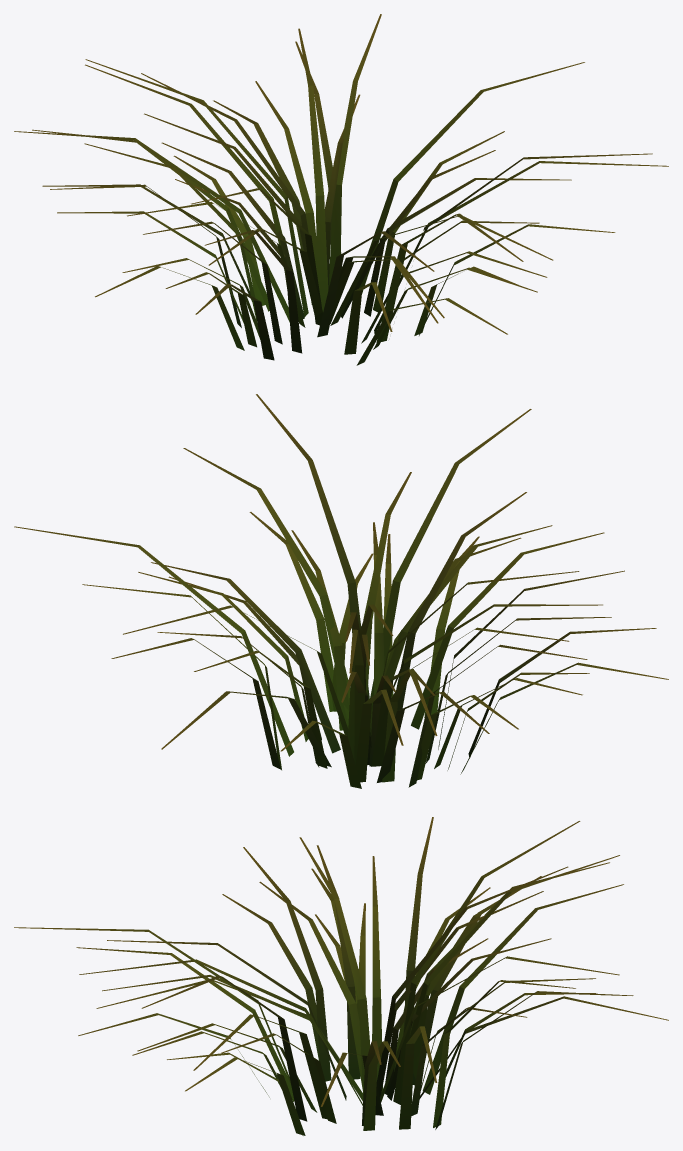
The model's file is fm_grass.glb.
3 views of the same model, one above another, from view 1: azimuth 30°, elevation 25°; view 2: azimuth 150°, elevation 25°; view 3: azimuth 270°, elevation 25° (orthographic). The views are drawn at different scales.
Parts seen in each view (by area): view 1: fm_grass; view 2: fm_grass; view 3: fm_grass.
Boxes of the visible parts, x1,y1,x2,y2 form: fm_grass: (14,14,668,365); fm_grass: (14,394,668,788); fm_grass: (14,817,668,1135).
Bounding box in the file's own units: 2.67 × 1.02 × 2.75.
